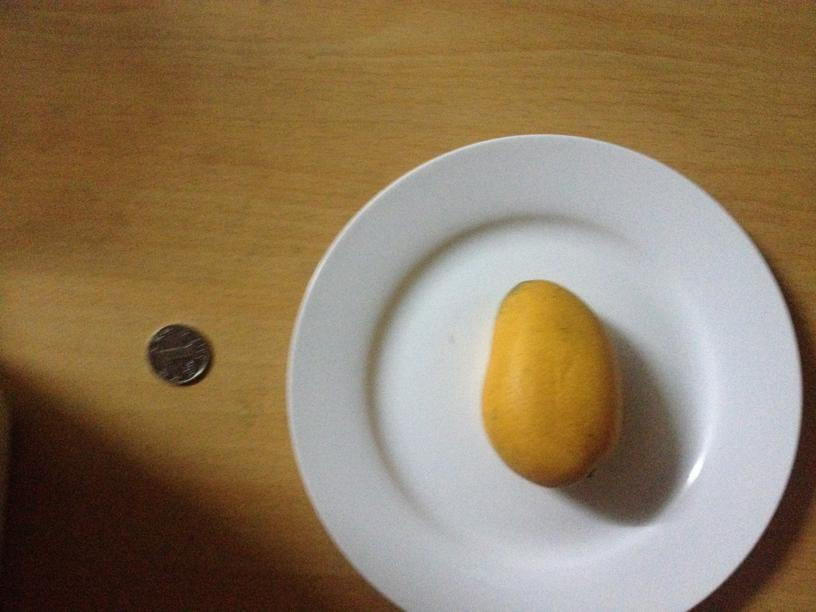coin: (147, 322, 210, 387)
mango: (477, 278, 621, 487)
